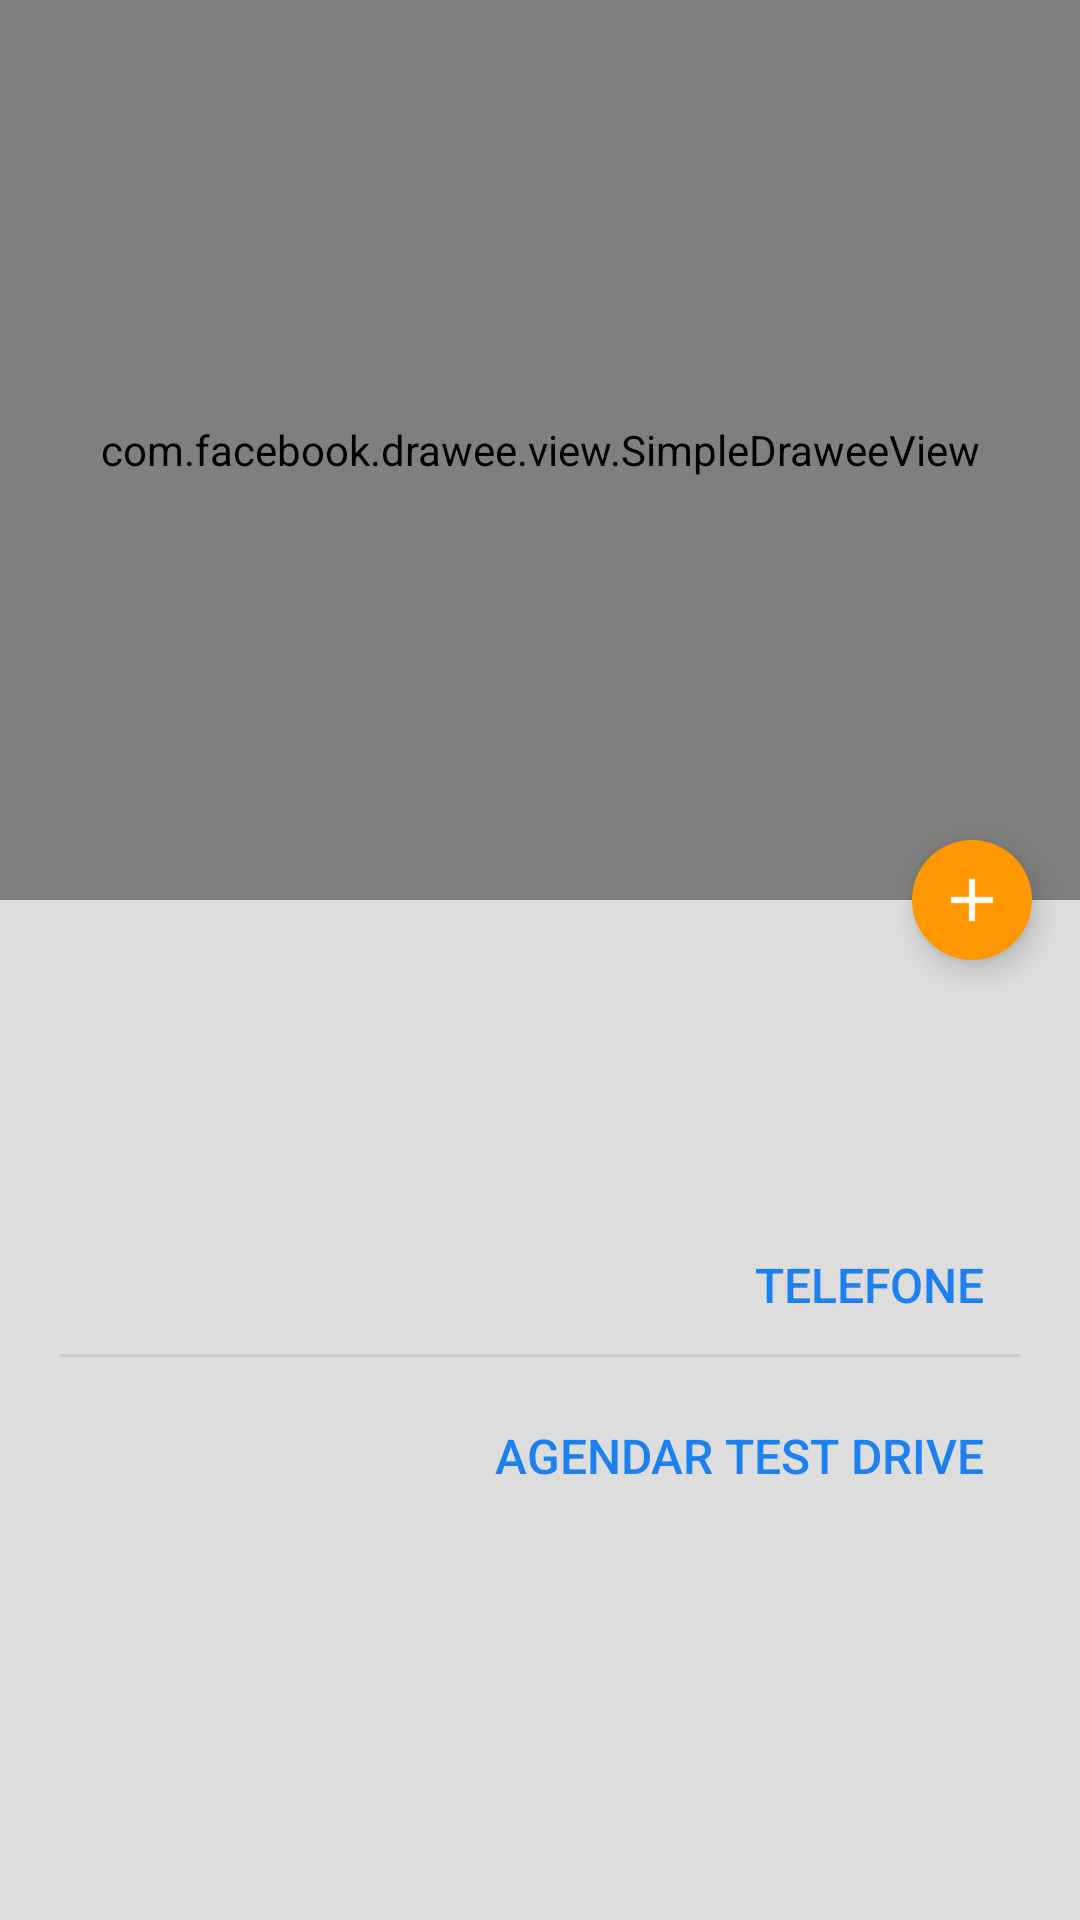

Where to tap for icons on this 1080×1920 app screen, as (x,y):
plus: (972,900)
